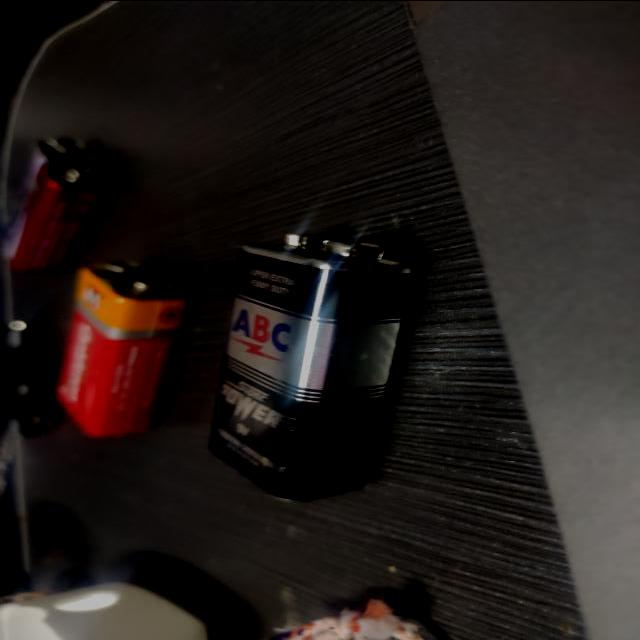9V: (189, 204, 422, 503), (42, 242, 199, 454), (0, 110, 114, 290)
